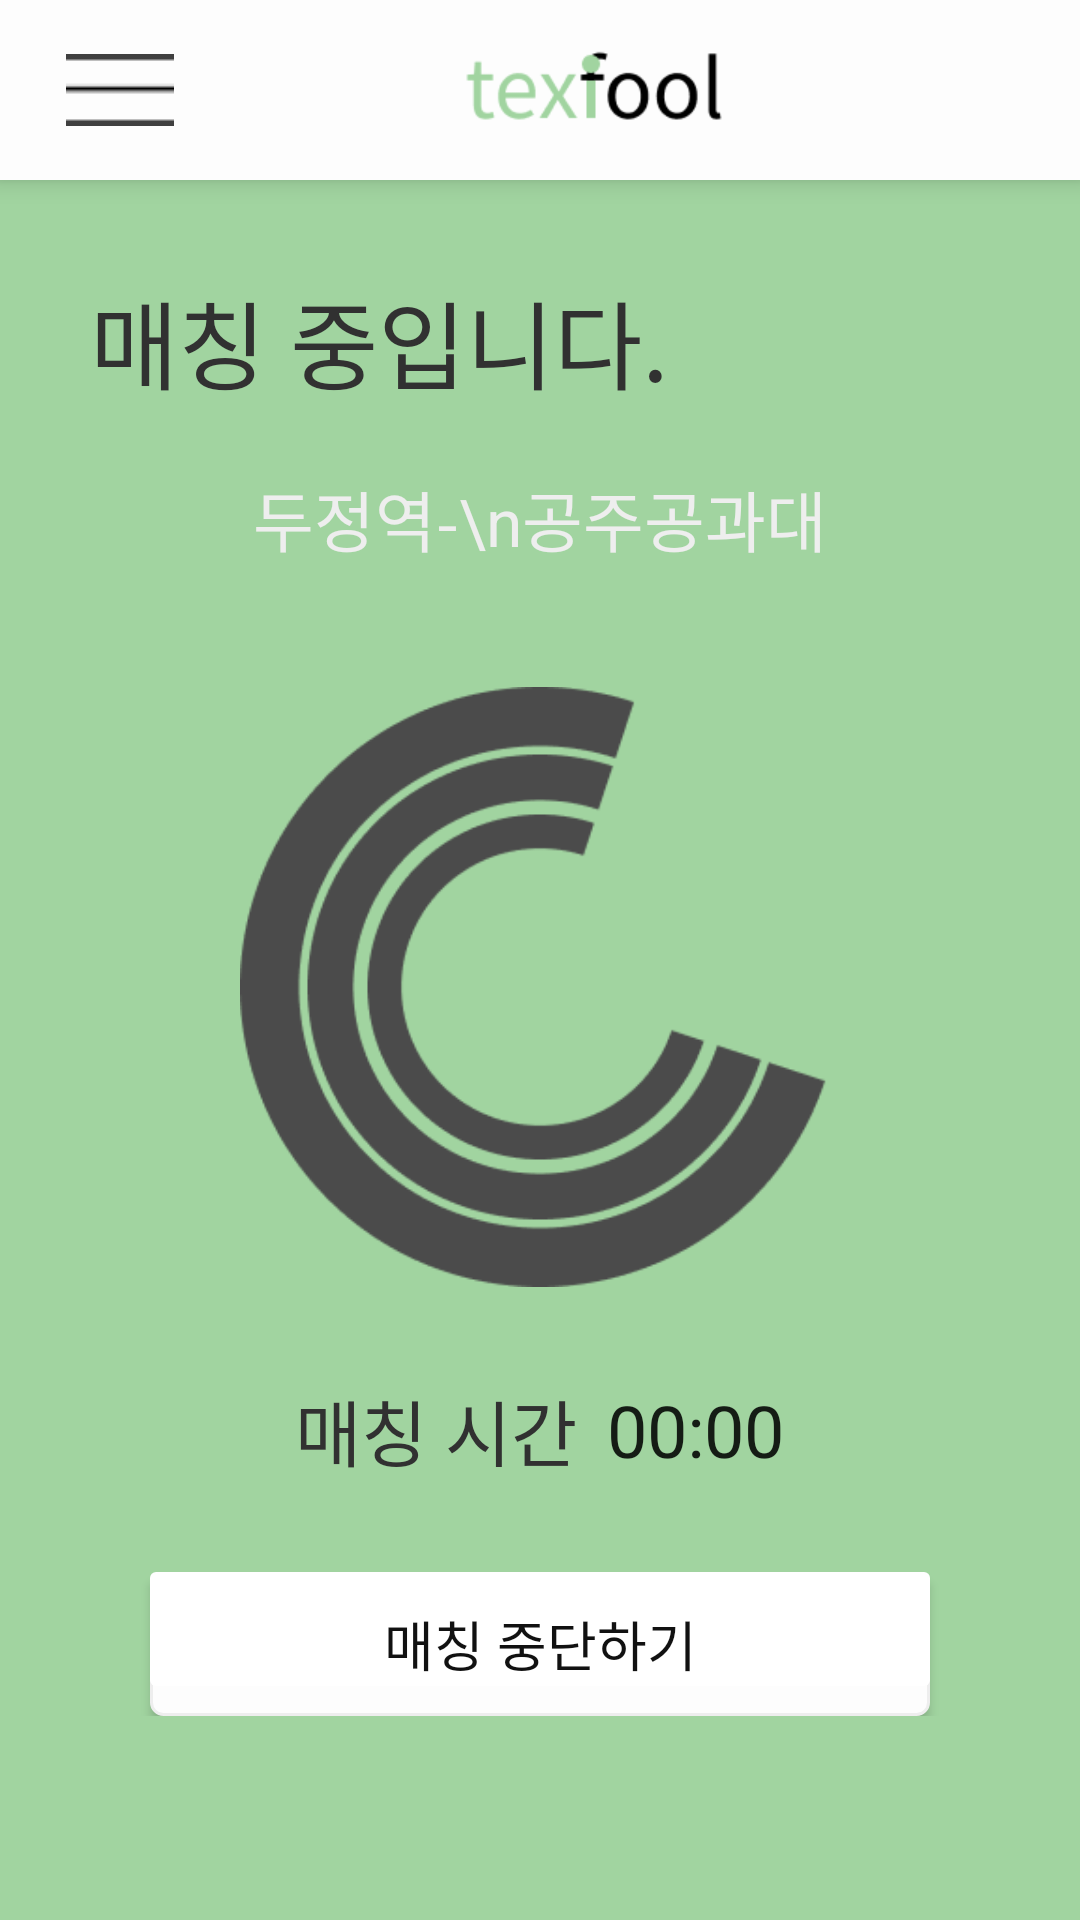

Named icons in this screenshot (1080 x 1920) and their bounding boxes, (x1, y1, x2, y2):
toolbarmenu: (66, 54, 174, 126)
